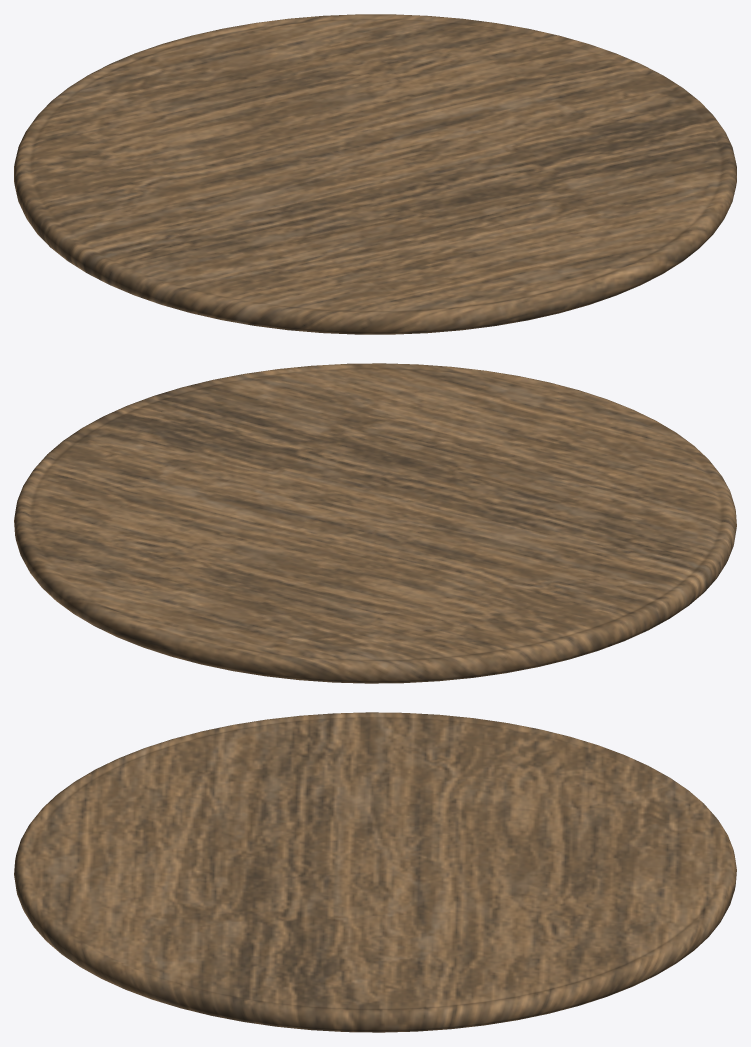
File: Wood_deck.fbx
3 views of the same model, one above another, from view 1: azimuth 30°, elevation 25°; view 2: azimuth 150°, elevation 25°; view 3: azimuth 270°, elevation 25° (orthographic).
Visible parts, largest first — view 1: 1Wood_deck; view 2: 1Wood_deck; view 3: 1Wood_deck.
Boxes of the visible parts, <box> form: 1Wood_deck: <box>14,14,736,334</box>; 1Wood_deck: <box>14,363,736,683</box>; 1Wood_deck: <box>14,712,736,1032</box>.
Bounding box in the file's own units: 60.1 × 1.92 × 60.1.
